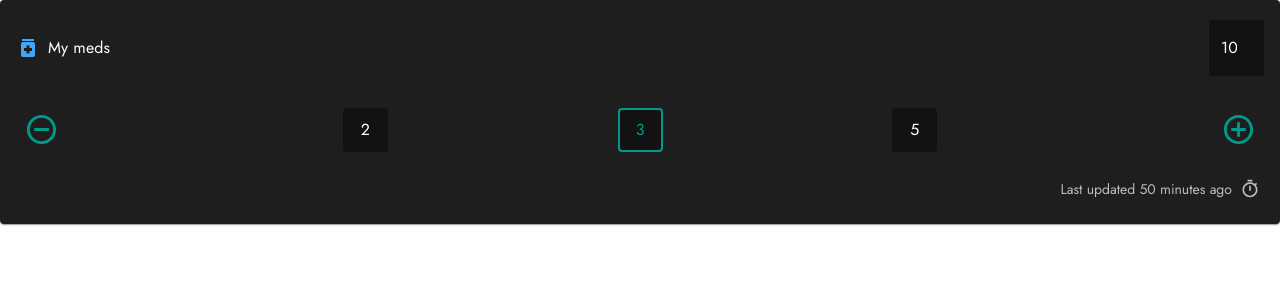
Test: <MedicationLogCard /> › updates the input value when the increment is selected
expect the number field holds "10": met, box [1209,20,1264,76]
Click the button named "increment".
click(1238, 130)  # box [1213,104,1264,155]
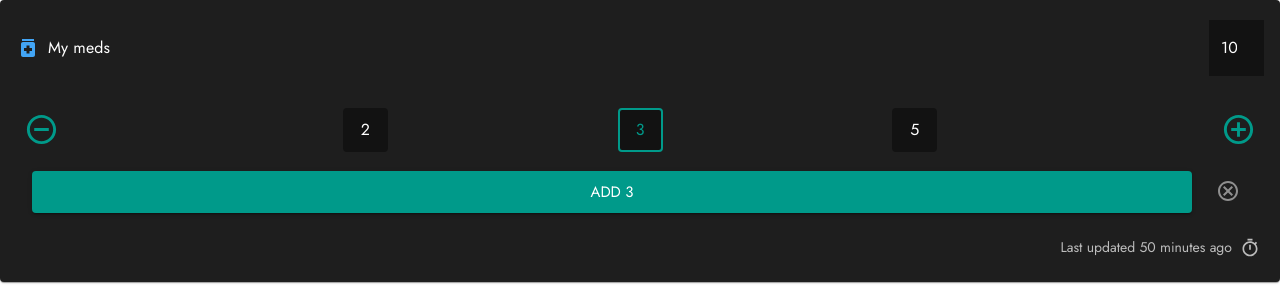
Click the button "Add 3".
click(612, 192)  # box [32,171,1192,213]
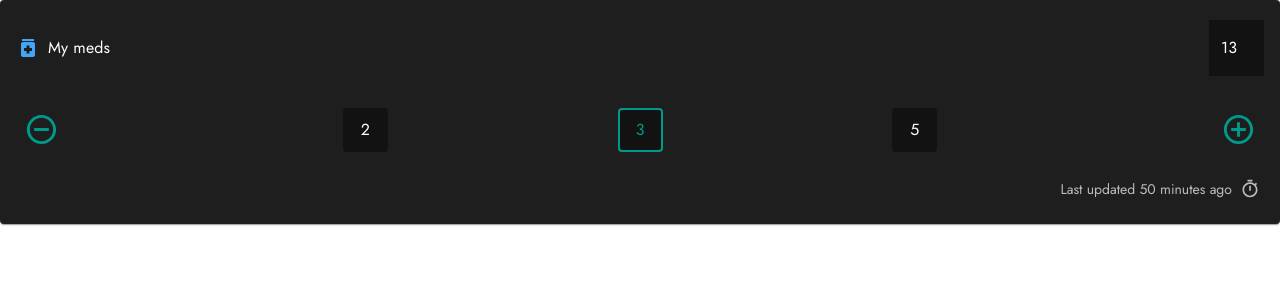
expect the number field holds "13": met, box [1209,20,1264,76]
expect the button "Add 3" is gone: met
Click the button "2".
click(365, 130)  # box [343,108,388,152]
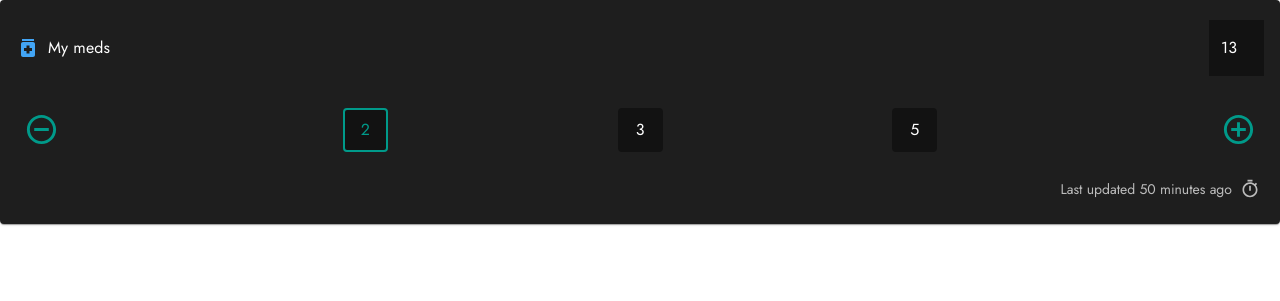
Click the button named "decrement".
click(42, 130)  # box [16,104,67,155]
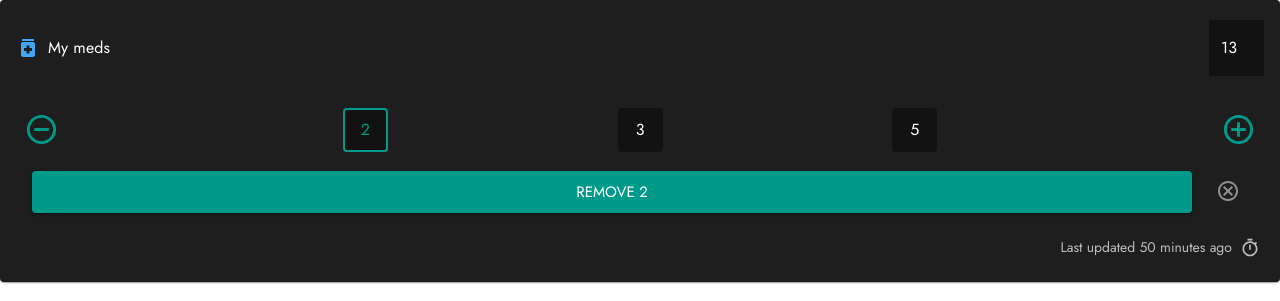
Click the button "Remove 2".
click(612, 192)  # box [32,171,1192,213]
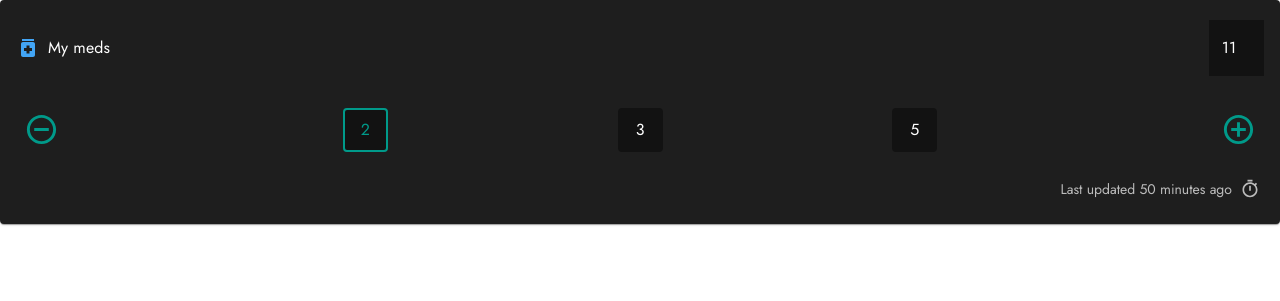
expect the number field holds "11": met, box [1209,20,1264,76]
